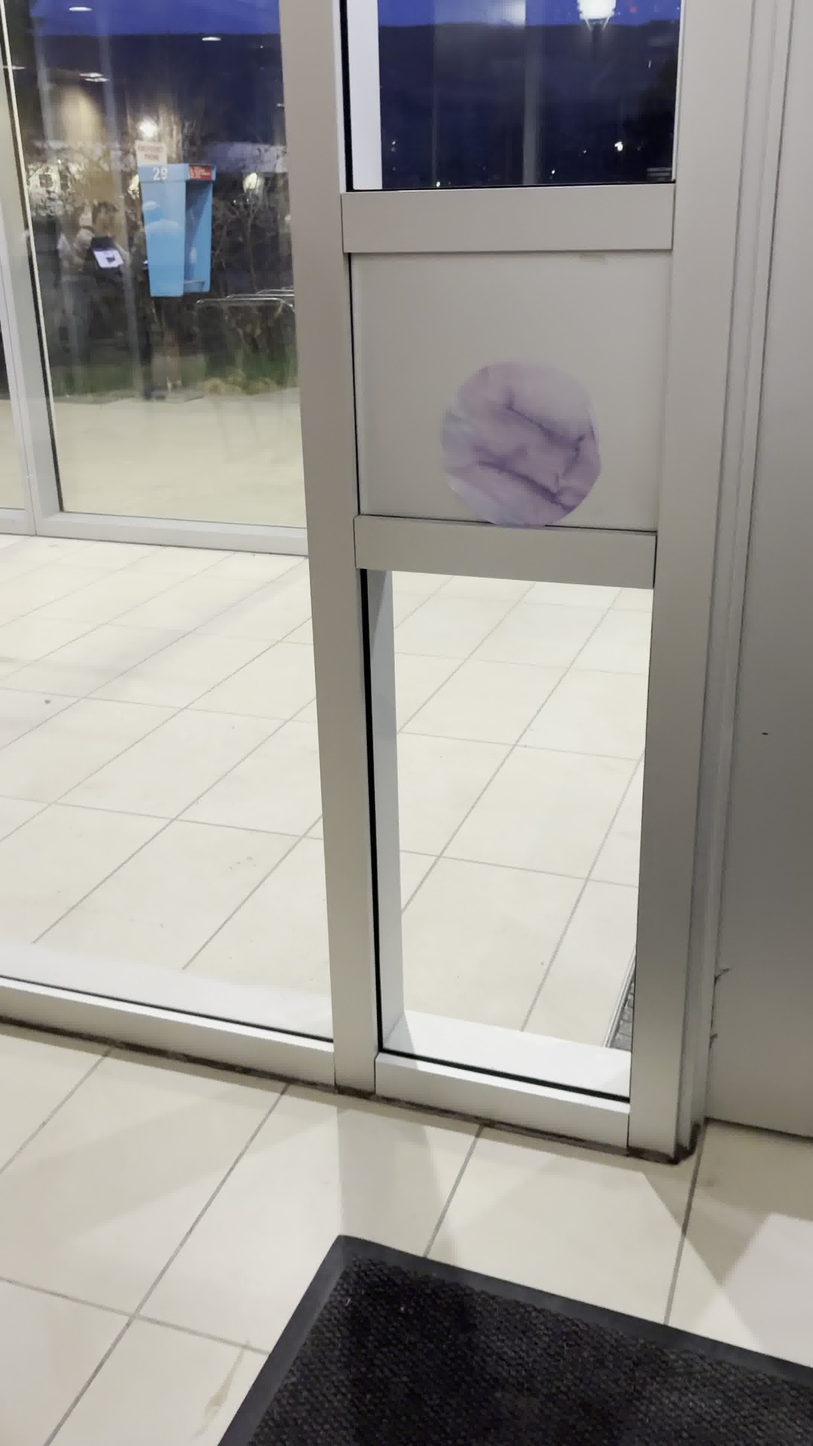Target: (437, 358, 605, 532)
